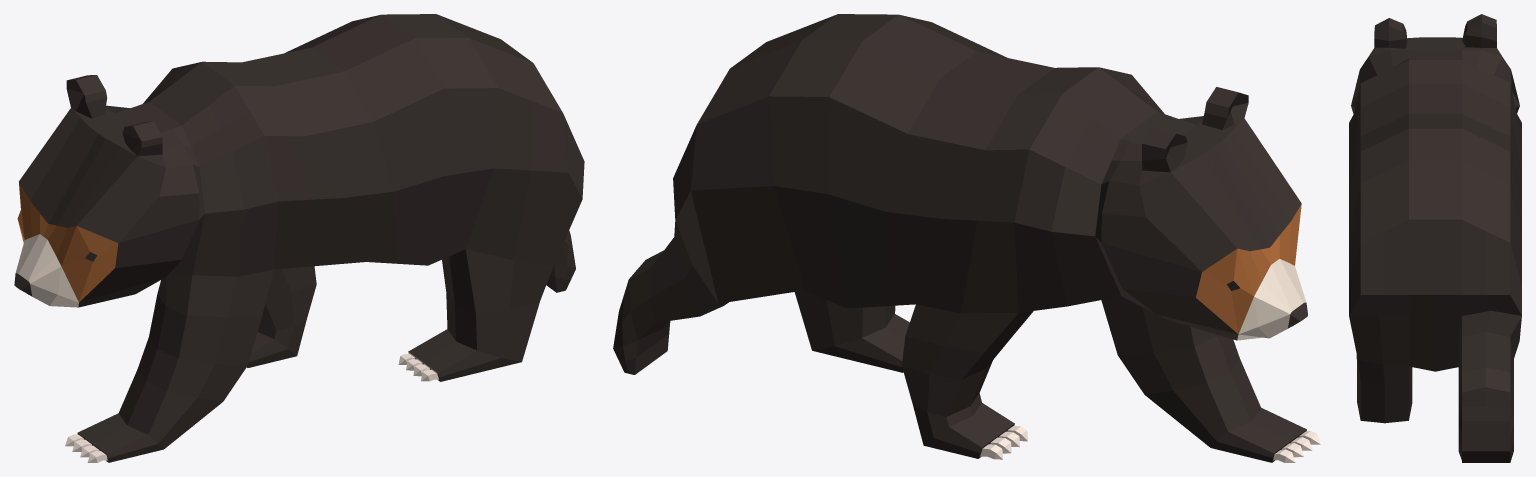
File: bear.fbx
The picture shows the model from 3 angles, left to right: view 1: azimuth 30°, elevation 25°; view 2: azimuth 150°, elevation 25°; view 3: azimuth 270°, elevation 25°; orthographic projection. The views are drawn at different scales.
Parts seen in each view (by area): view 1: Cube; view 2: Cube; view 3: Cube.
Boxes of the visible parts, x1,y1,x2,y2 form: Cube: (14, 14, 584, 462); Cube: (613, 14, 1320, 462); Cube: (1349, 14, 1521, 462).
Size of the model in its own units: 465 by 248 by 149.
